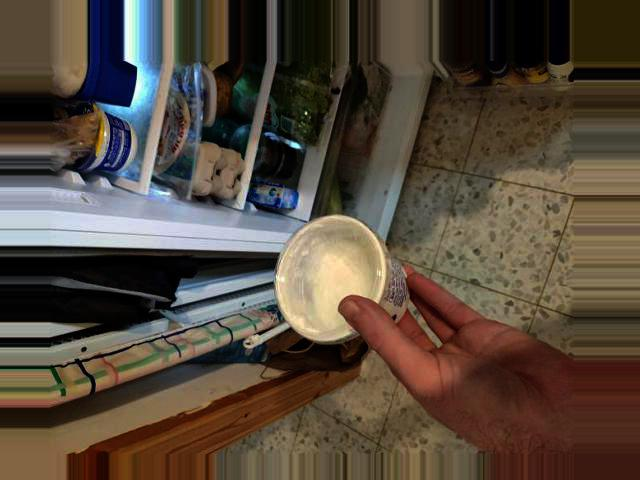cotage: (284, 248, 406, 345)
